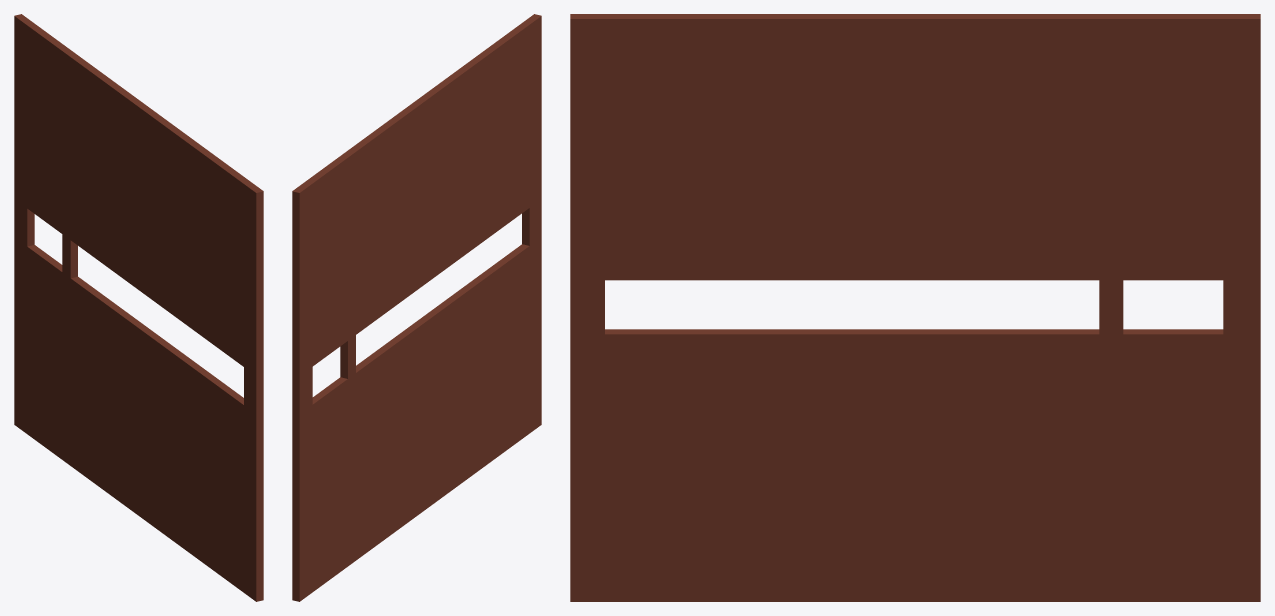
The model's file is lib_backwall_gallery.fbx.
The picture shows the model from 3 angles, left to right: view 1: azimuth 30°, elevation 25°; view 2: azimuth 150°, elevation 25°; view 3: azimuth 270°, elevation 25°; orthographic projection. The views are drawn at different scales.
Visible parts, largest first — view 1: Wall; view 2: Wall; view 3: Wall.
Boxes of the visible parts, box(x1,y1,x2,y2) form: Wall: box(14, 14, 263, 601); Wall: box(292, 14, 541, 601); Wall: box(570, 14, 1260, 601).
Size of the model in its own units: 200 by 10549 by 11326.
